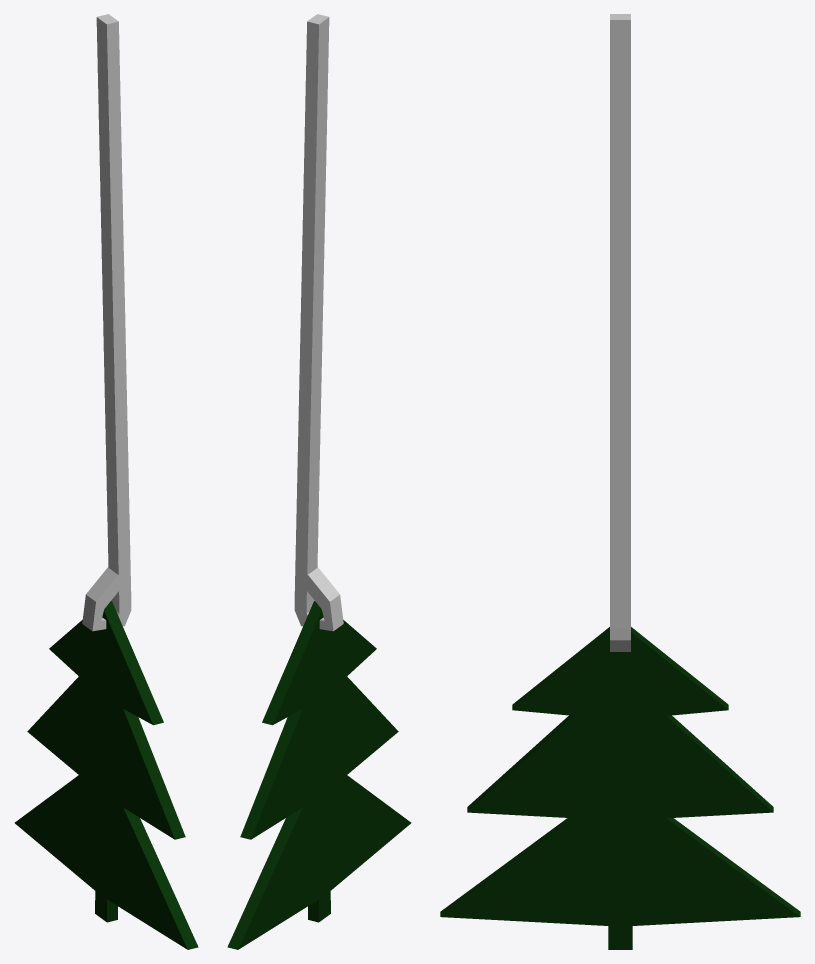
The model's file is Airfresh.obj.
3 views of the same model, side by side, from view 1: azimuth 30°, elevation 25°; view 2: azimuth 150°, elevation 25°; view 3: azimuth 270°, elevation 25° (orthographic). The views are drawn at different scales.
Parts seen in each view (by area): view 1: Cube.006_Cube.058_Cucumber, Cube.006_Cube.058_Material.001; view 2: Cube.006_Cube.058_Cucumber, Cube.006_Cube.058_Material.001; view 3: Cube.006_Cube.058_Cucumber, Cube.006_Cube.058_Material.001.
Part boxes in pixels (x1=…): Cube.006_Cube.058_Cucumber: x1=14, y1=601, x2=198, y2=949; Cube.006_Cube.058_Material.001: x1=82, y1=14, x2=131, y2=631; Cube.006_Cube.058_Cucumber: x1=227, y1=601, x2=411, y2=949; Cube.006_Cube.058_Material.001: x1=294, y1=14, x2=343, y2=631; Cube.006_Cube.058_Cucumber: x1=440, y1=627, x2=800, y2=949; Cube.006_Cube.058_Material.001: x1=610, y1=14, x2=630, y2=651.
Size of the model in its own units: 0.0445 by 0.9816 by 0.3441.
